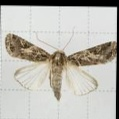Spodoptera litura: (3, 25, 116, 100)
